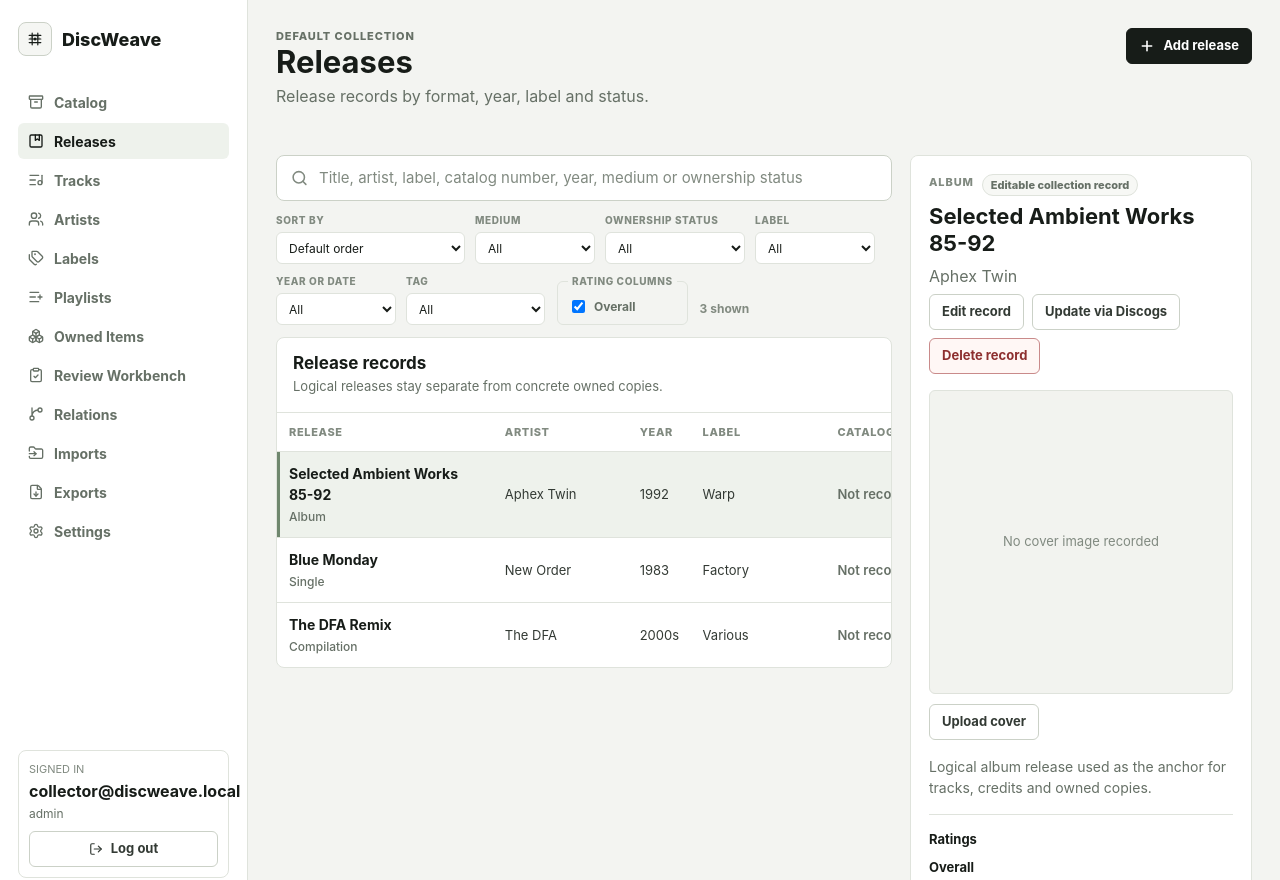
Test: App release workspace › filters releases by title, artist, label, year, media and ownership status
The width and height of the screenshot is (1280, 880).
Type "factory needs digitization" into the search field named "Search releases". click: (584, 178)
box: [276,155,892,201]
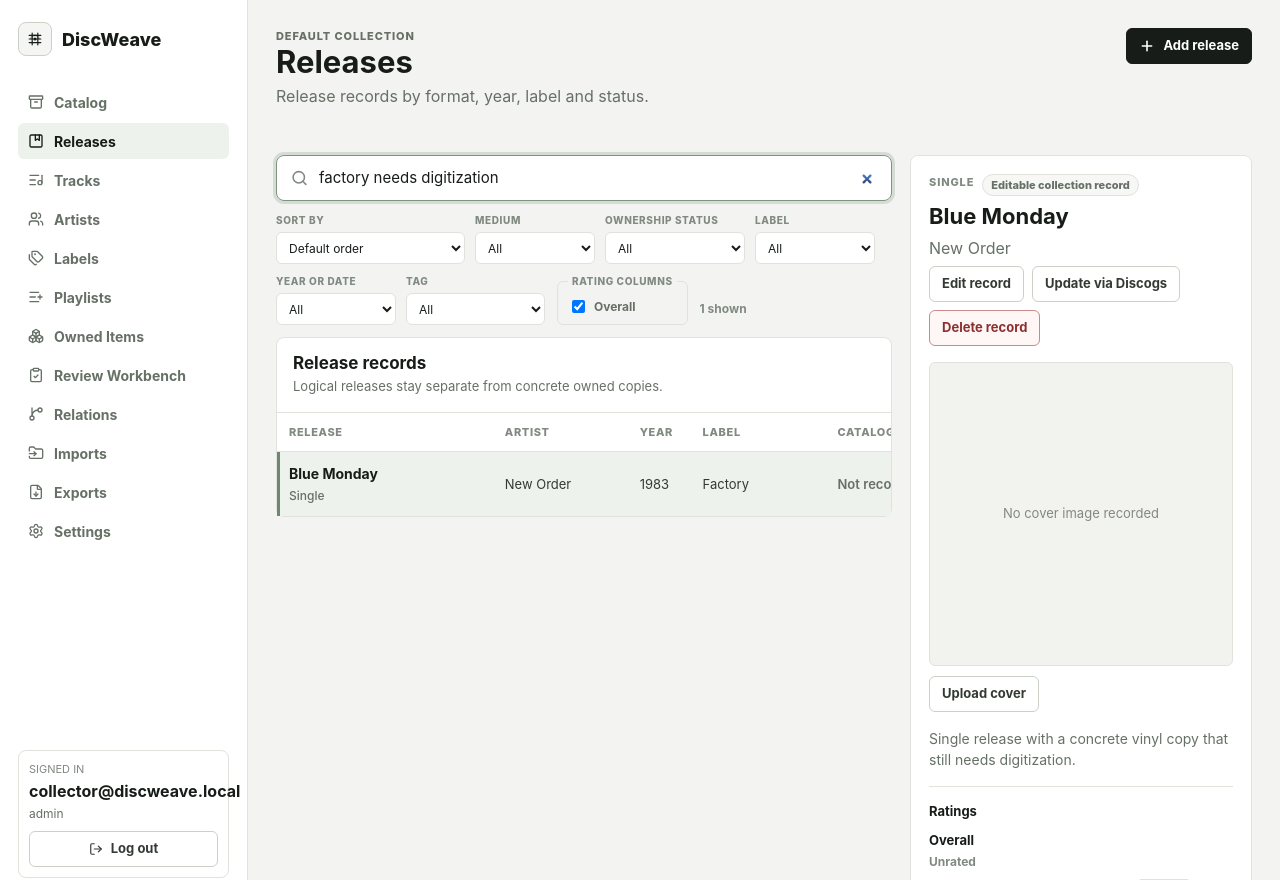
Expected: the row "Blue Monday" is shown, [277,452,891,516]
Now the button "Selected Ambient Works" is gone
